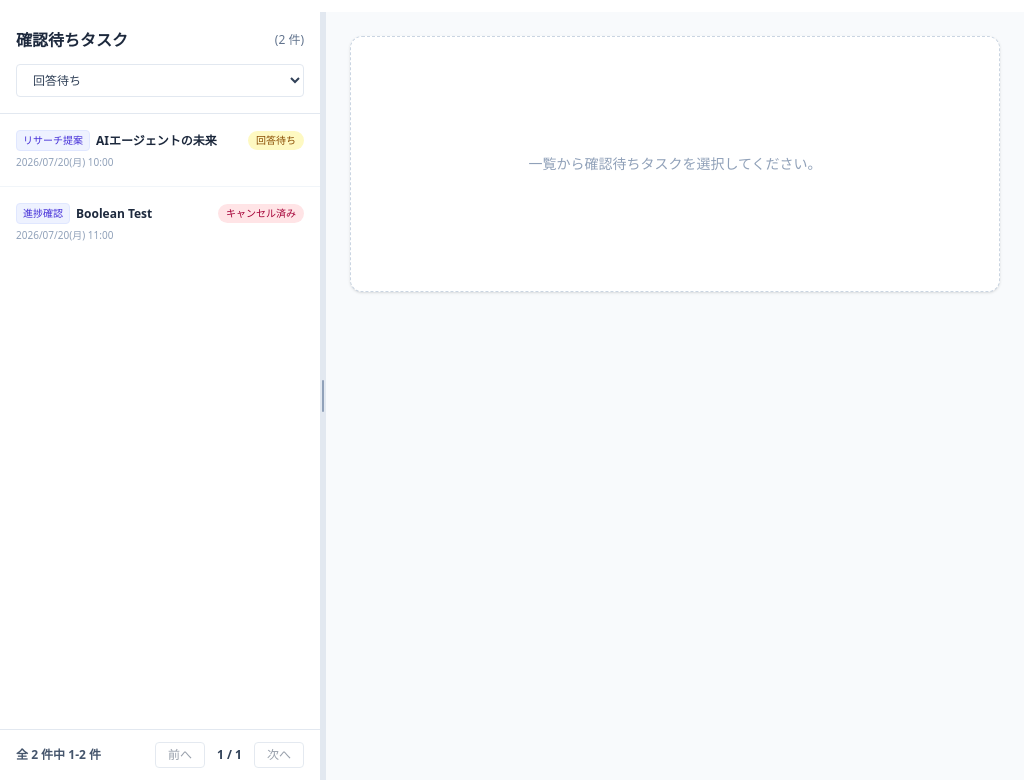
Scenario: HitlPage › displays detail error if submitHitlAnswer fails with ApiError
Step 1. Click the text "AIエージェントの未来" → (156, 140), box x1=96 y1=132 x2=217 y2=148
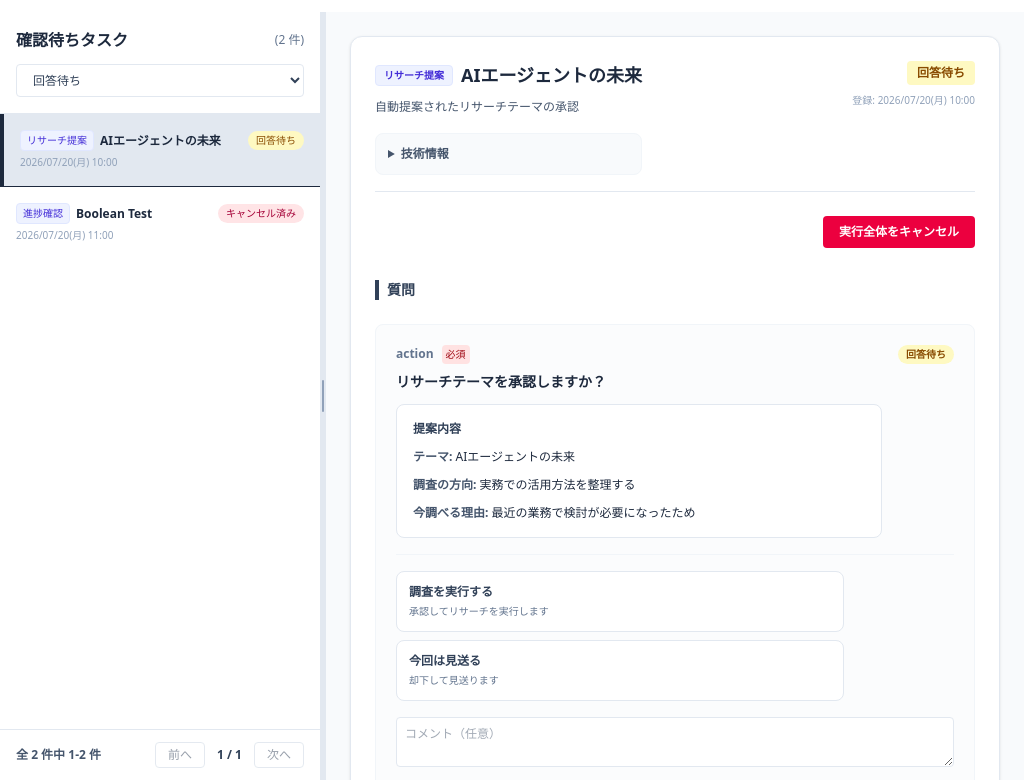
Now the text "AIエージェントの未来" is shown 3 times, box x1=100 y1=132 x2=221 y2=148; x1=461 y1=61 x2=642 y2=89; x1=456 y1=448 x2=575 y2=464
Choose 'approve'
Step 2. Click the text "調査を実行する" → (451, 591), box x1=409 y1=582 x2=493 y2=600
(page scrolled)
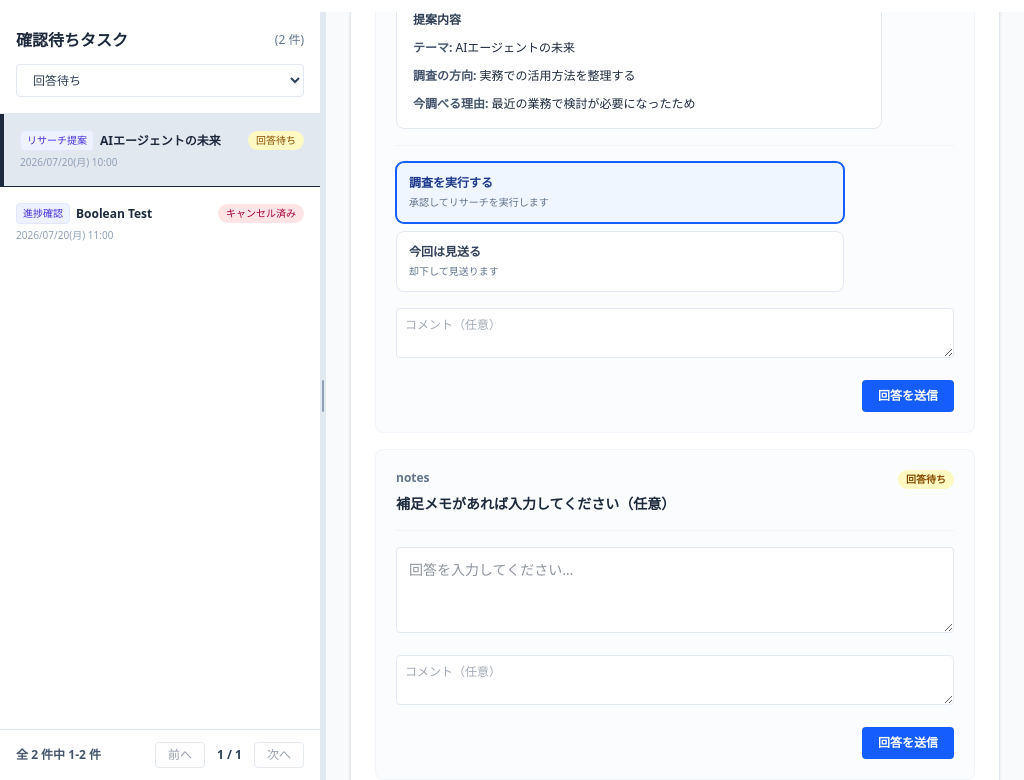
Step 3. Click the button "回答を送信" below "最近の業務で検討が必要になったため" → (908, 396), box x1=862 y1=380 x2=954 y2=412
(page scrolled)
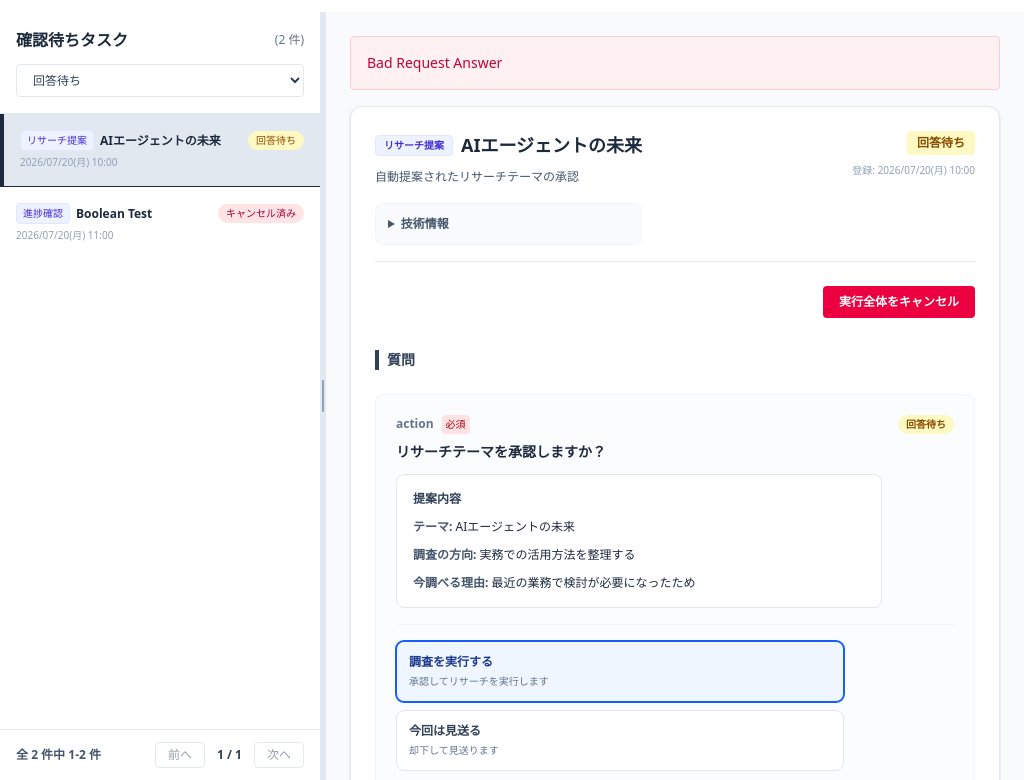
Now the text "Bad Request Answer" is shown, box x1=350 y1=36 x2=1000 y2=90
